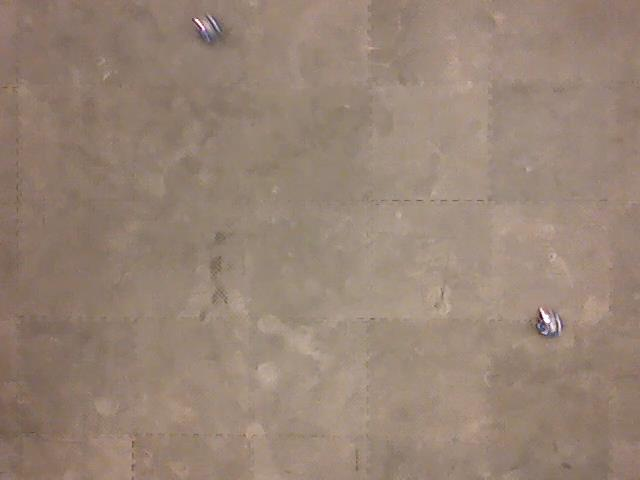Agent: (189, 11, 227, 48), (531, 304, 565, 342)
